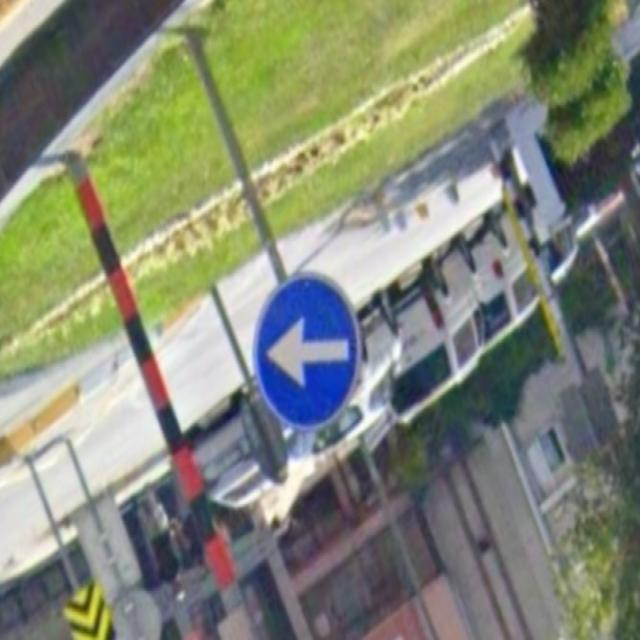Turn Left: (252, 279, 365, 430)
